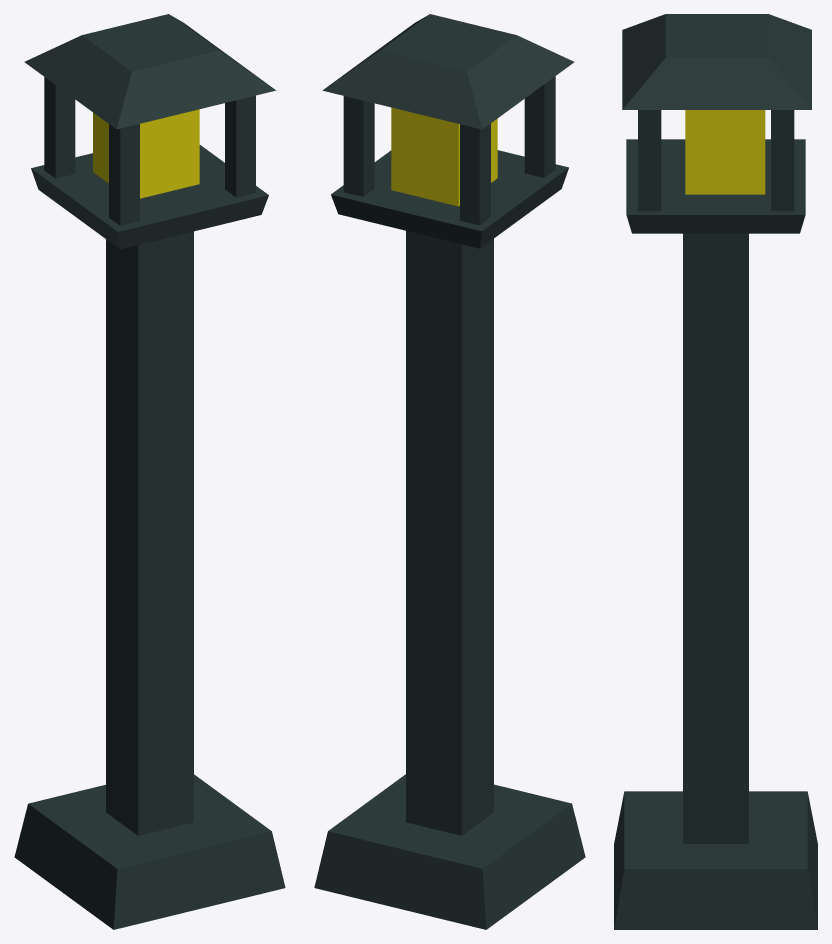
File: lampara1.fbx
The picture shows the model from 3 angles, left to right: view 1: azimuth 30°, elevation 25°; view 2: azimuth 150°, elevation 25°; view 3: azimuth 270°, elevation 25°; orthographic projection. The views are drawn at different scales.
Parts seen in each view (by area): view 1: Cube.021; view 2: Cube.021; view 3: Cube.021.
Boxes of the visible parts, x1,y1,x2,y2 form: Cube.021: [14, 14, 285, 929]; Cube.021: [314, 14, 585, 929]; Cube.021: [614, 14, 817, 929].
Bounding box in the file's own units: 61.83 × 285 × 61.83.
